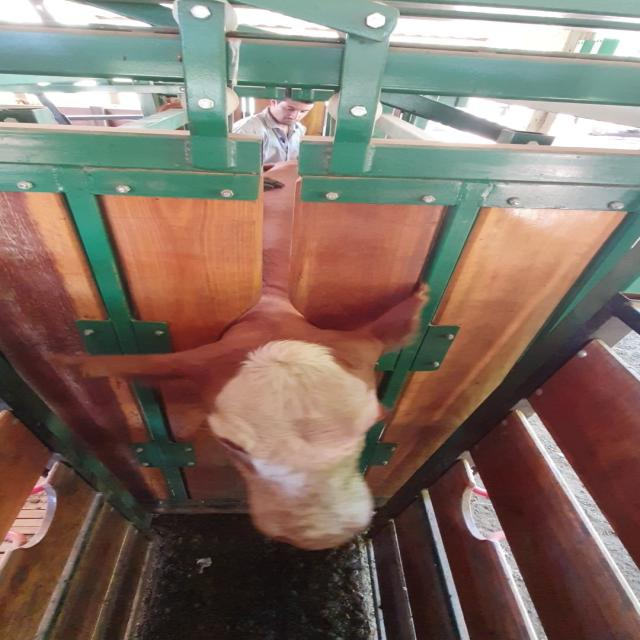cowFace: (210, 331, 387, 548)
